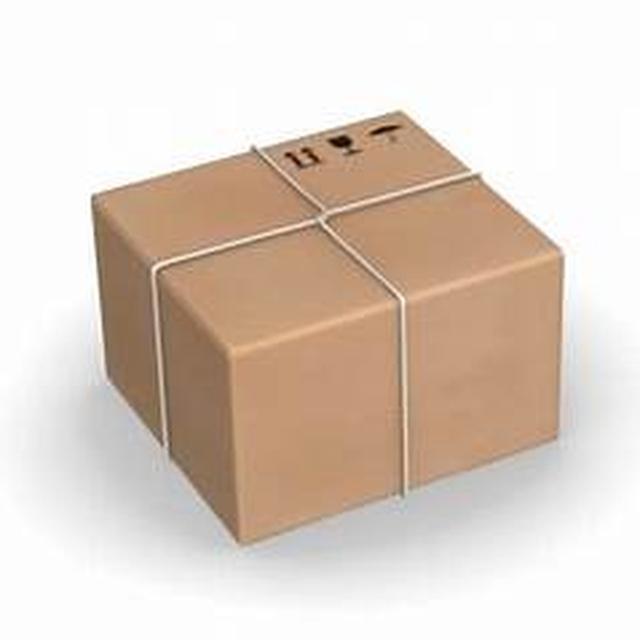box: (32, 94, 598, 546)
